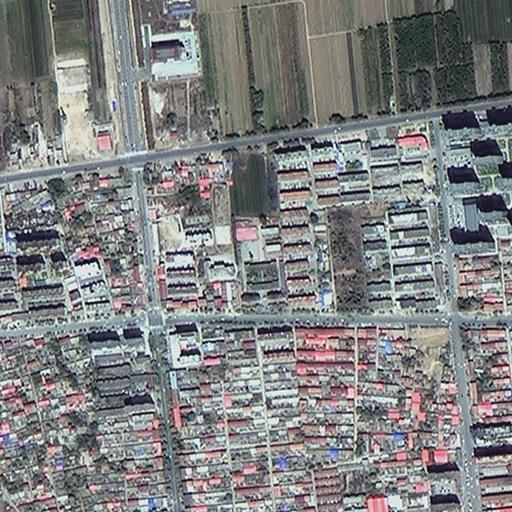school: (233, 212, 284, 309)
